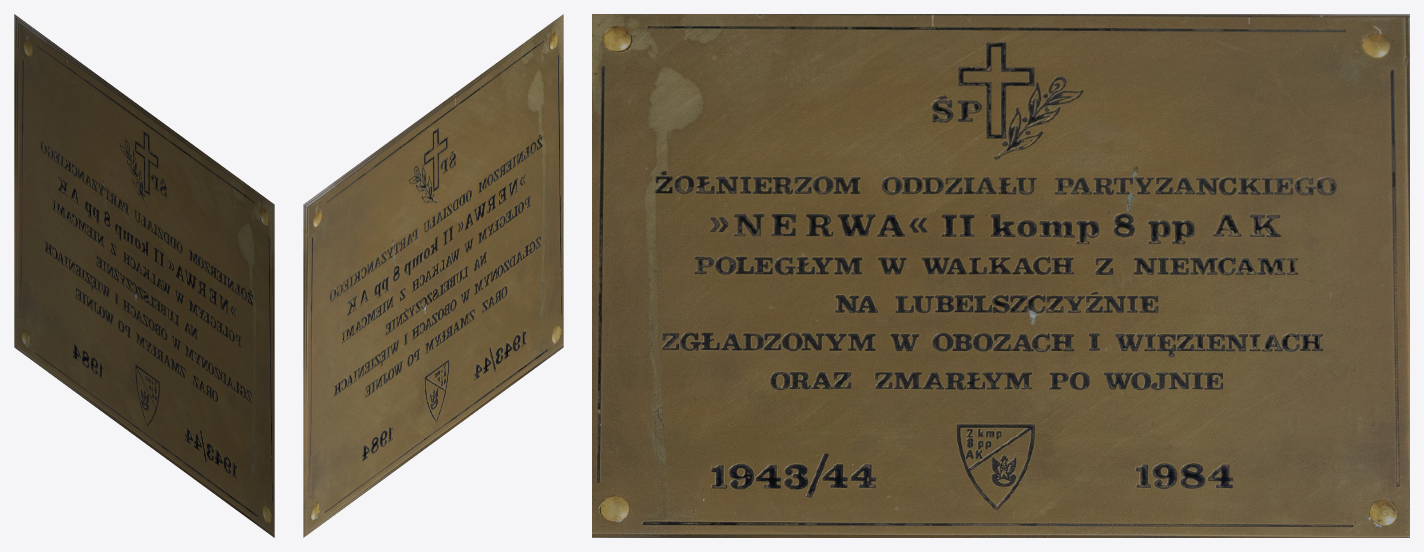
The model's file is 79. Ś.P. ŻOŁANIERZOM ODDZIAŁU PARTYZANCKIEGO.glb.
The picture shows the model from 3 angles, left to right: view 1: azimuth 30°, elevation 25°; view 2: azimuth 150°, elevation 25°; view 3: azimuth 270°, elevation 25°; orthographic projection. The views are drawn at different scales.
Visible parts, largest first — view 1: Plane; view 2: Plane; view 3: Plane.
Part boxes in pixels (x1=…): Plane: x1=14, y1=14, x2=274, y2=537; Plane: x1=303, y1=14, x2=563, y2=537; Plane: x1=592, y1=14, x2=1409, y2=537.
Bounding box in the file's own units: 0.0102 × 20.5 × 29.
Materials: 1 (1 with a texture image).
